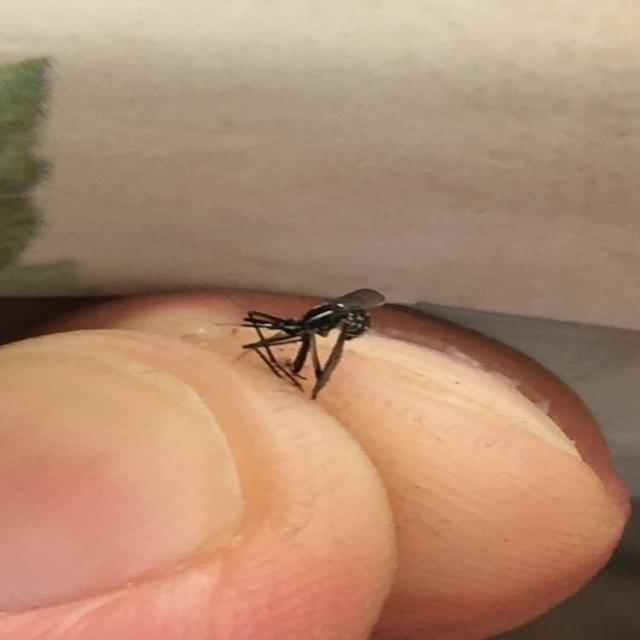albopictus: (202, 283, 394, 398)
